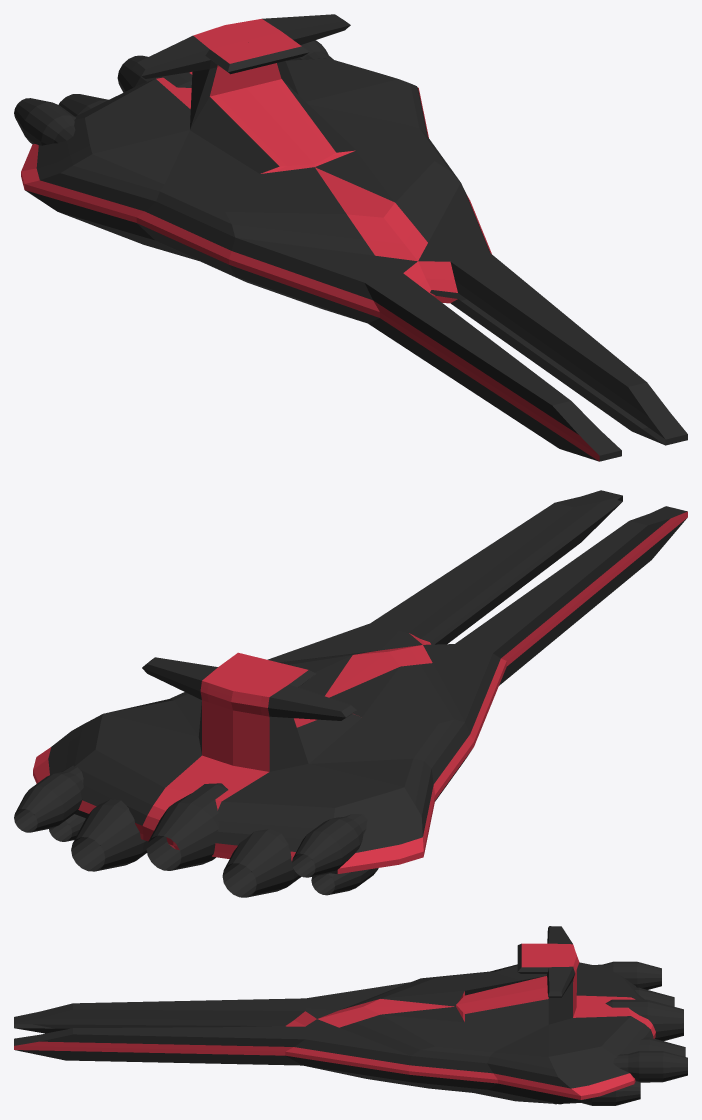
File: Sternenzerstorer.glb
The picture shows the model from 3 angles, top to bottom: view 1: azimuth 30°, elevation 25°; view 2: azimuth 150°, elevation 25°; view 3: azimuth 270°, elevation 25°; orthographic projection. The views are drawn at different scales.
Parts seen in each view (by area): view 1: Cube.001; view 2: Cube.001; view 3: Cube.001.
Part boxes in pixels (<box>): Cube.001: <box>14,14,687,461</box>; Cube.001: <box>14,490,687,897</box>; Cube.001: <box>14,926,687,1105</box>.
Bounding box in the file's own units: 139 × 53.41 × 305.
